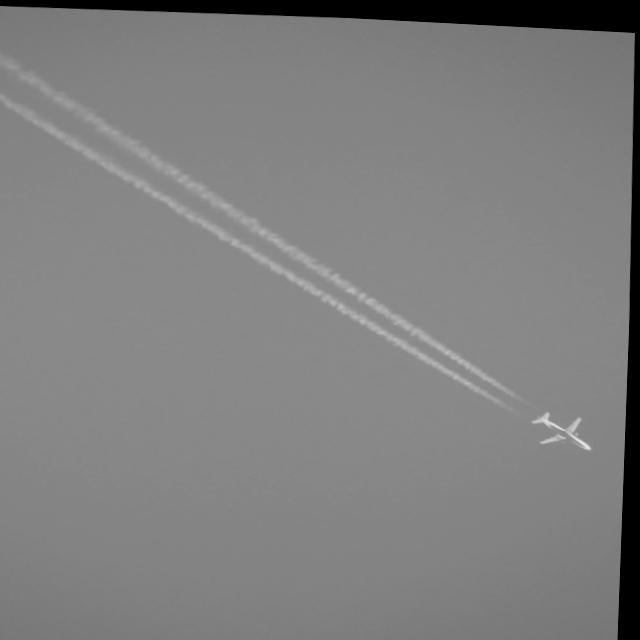aeroplane: (520, 401, 602, 446)
